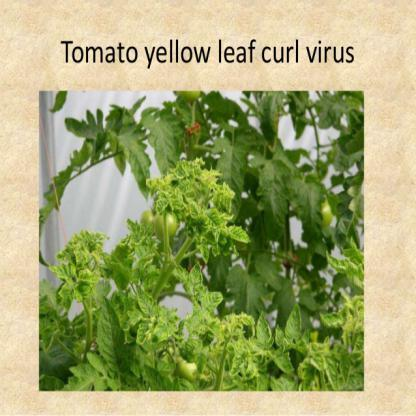Tomato leaf: (285, 300, 308, 342), (132, 282, 158, 316), (228, 340, 249, 380), (323, 247, 354, 274), (254, 311, 273, 354), (153, 314, 178, 346), (47, 264, 78, 287), (224, 223, 254, 246), (317, 308, 344, 332), (80, 269, 101, 298), (188, 260, 202, 300), (203, 291, 227, 313), (196, 326, 219, 348), (170, 191, 186, 215), (206, 209, 224, 230), (155, 190, 166, 223), (218, 187, 233, 208), (190, 199, 204, 220), (182, 336, 192, 362)
